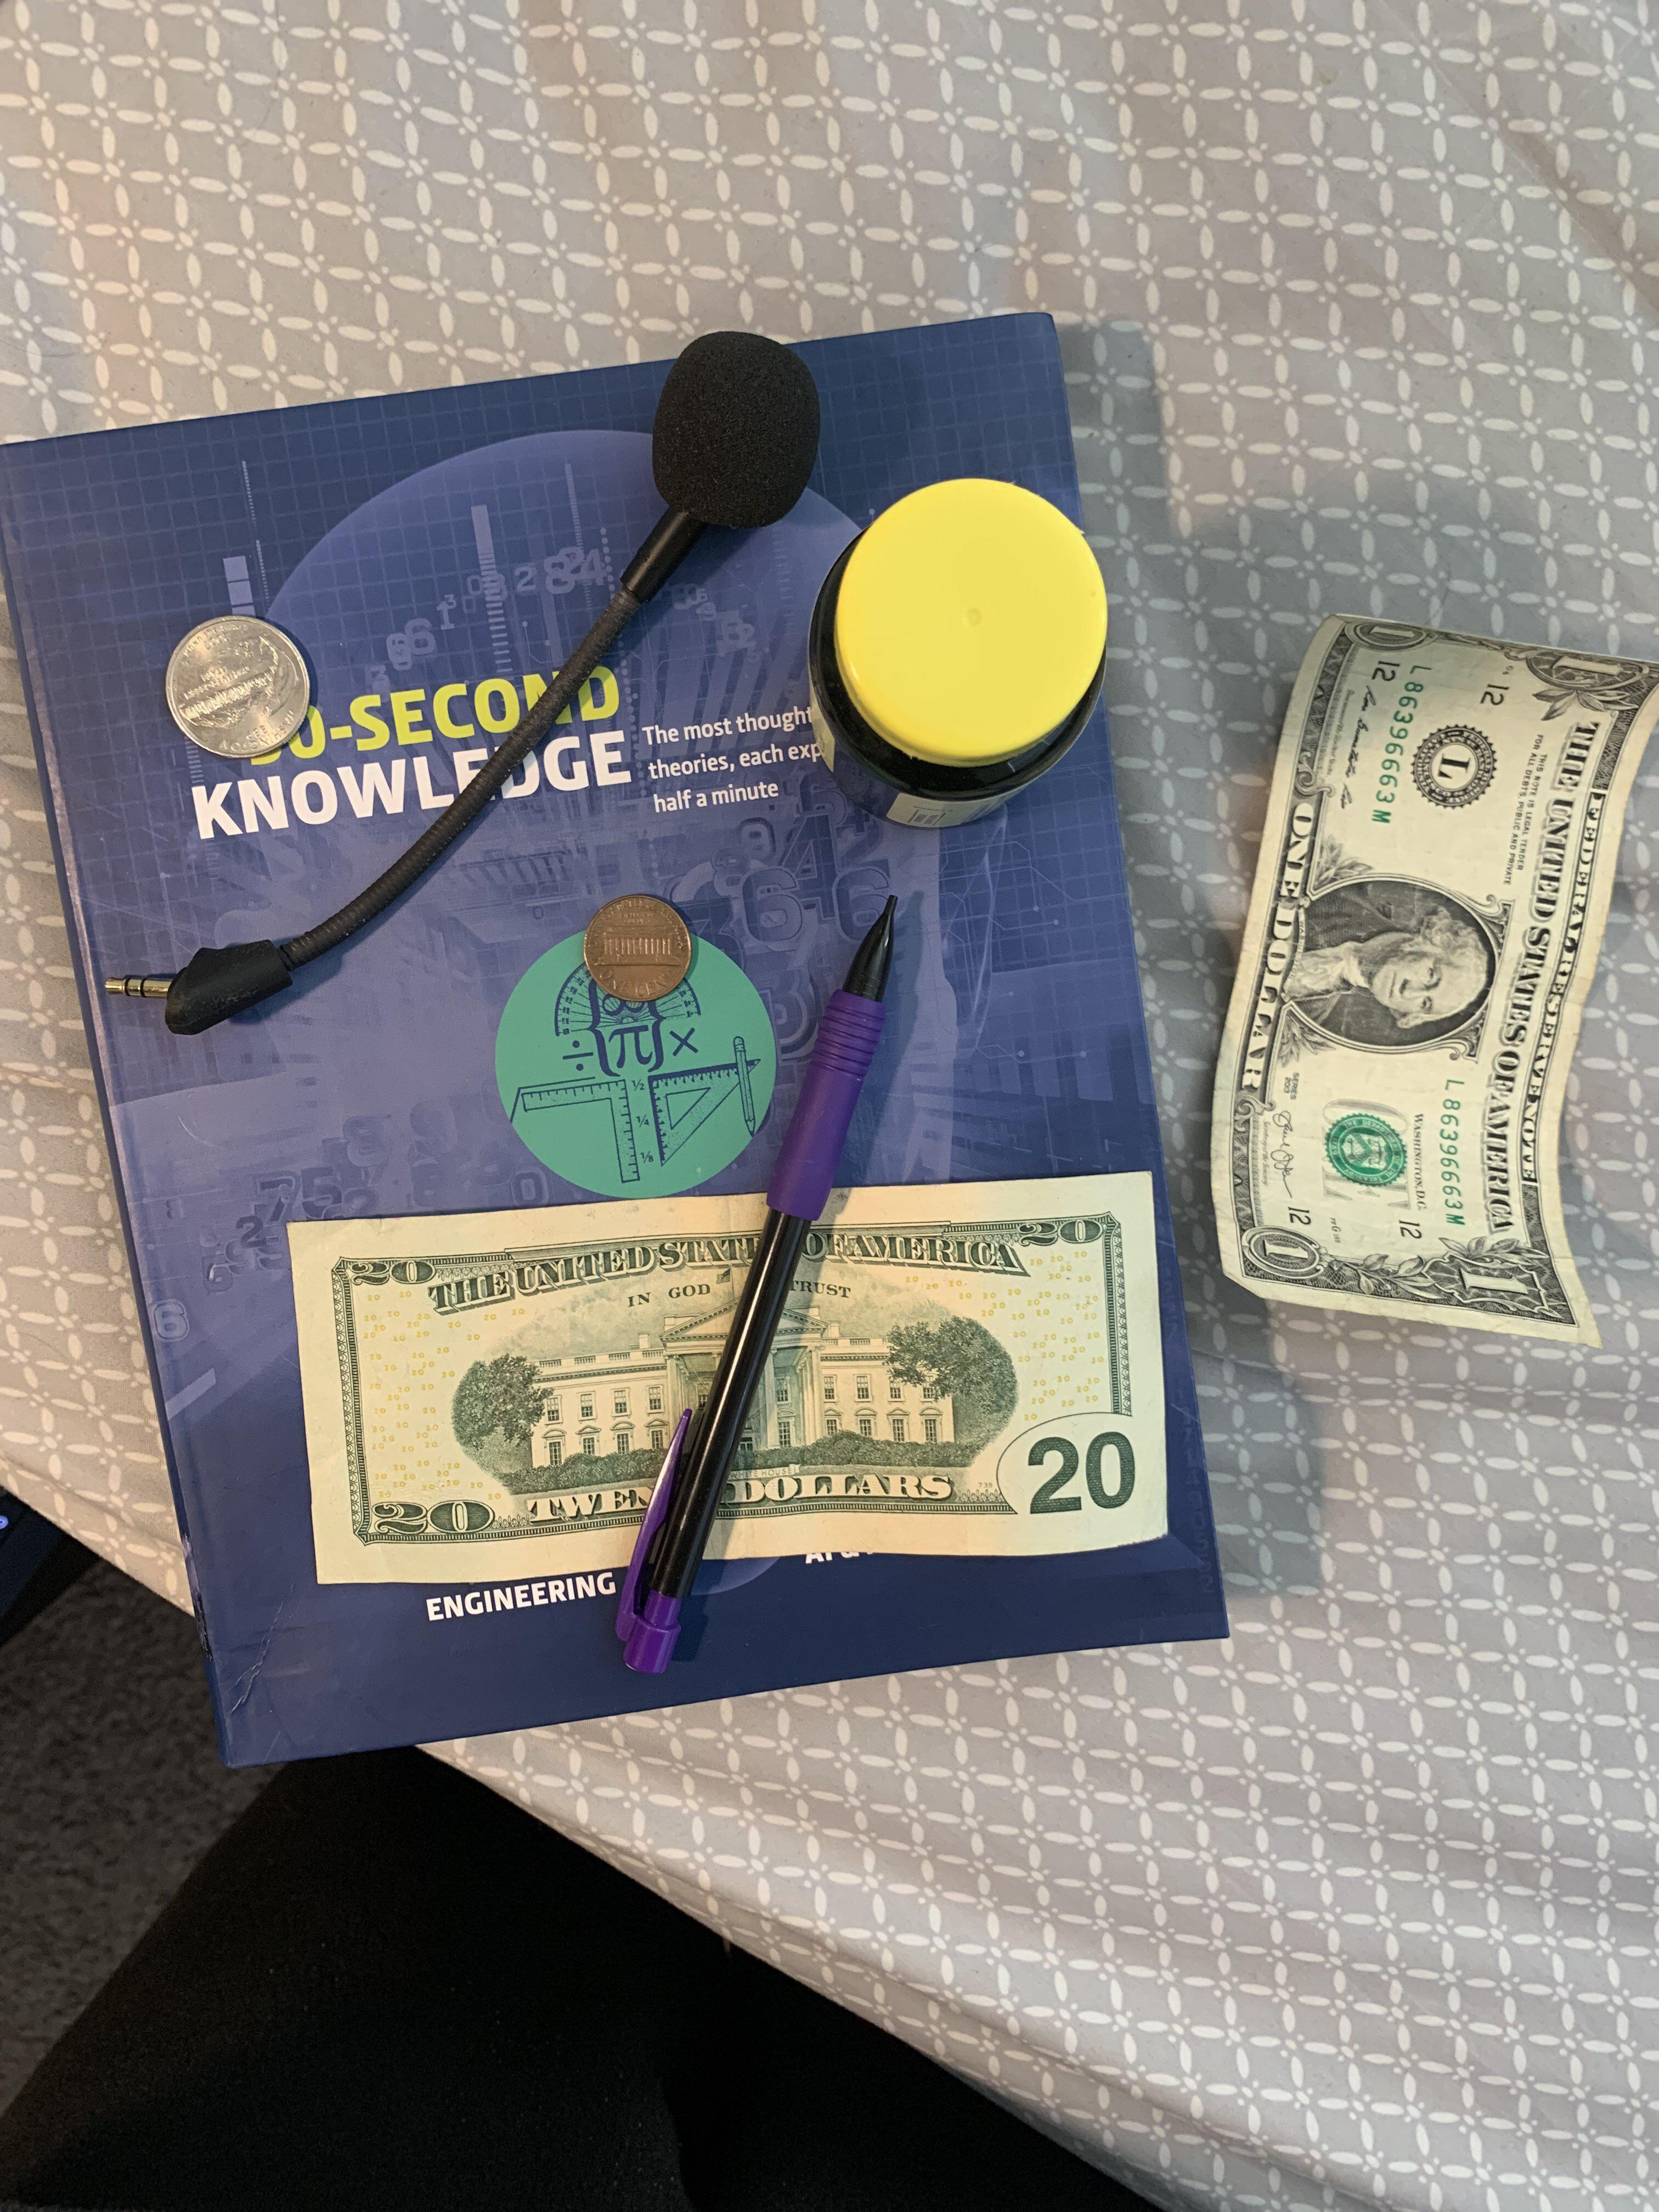OneBill: (1202, 568, 1657, 1376)
Penny: (570, 881, 727, 1021)
Quarter: (131, 604, 345, 773)
TwentyBill: (249, 1162, 1197, 1608)
